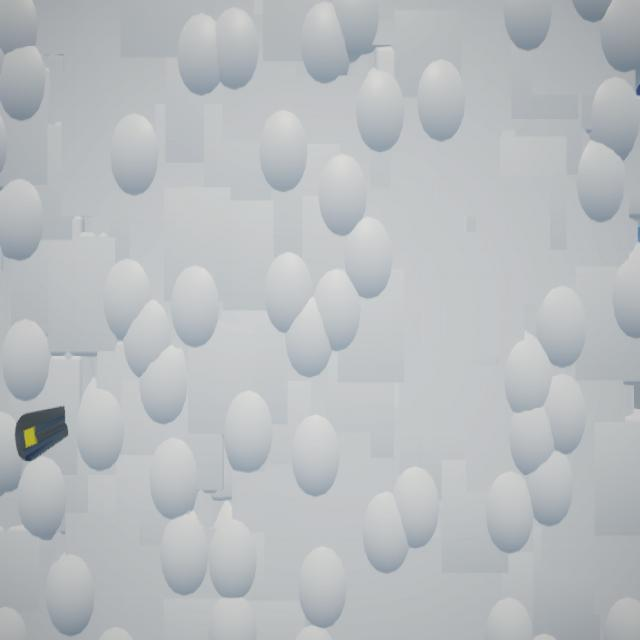handle_folk: (16, 406, 70, 463)
